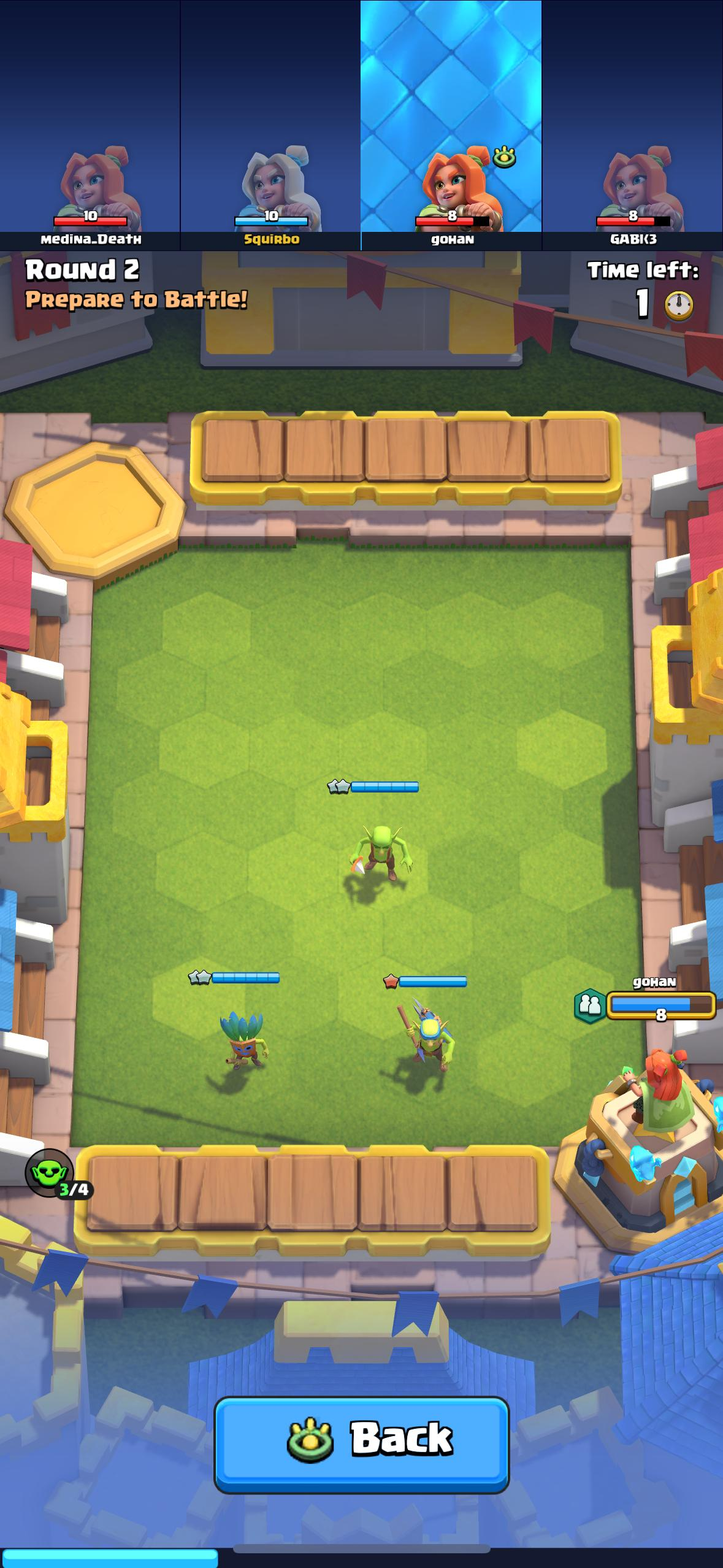dart: (211, 1000, 274, 1072)
goblin: (350, 814, 414, 888)
spear: (388, 995, 463, 1069)
